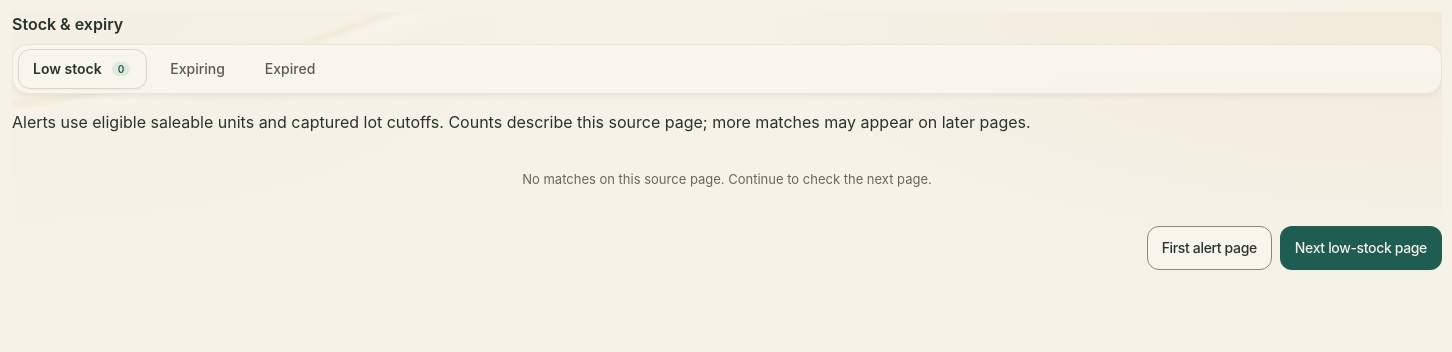
Test: paginates low-stock source pages and never labels a filtered empty page as the whole store
Expected: the text "No matches on this source page. Continue to check the next page." is shown, [522, 171, 932, 187]
Step 1. Click the button "Next low-stock page" → (1361,248), box [1280, 226, 1442, 270]
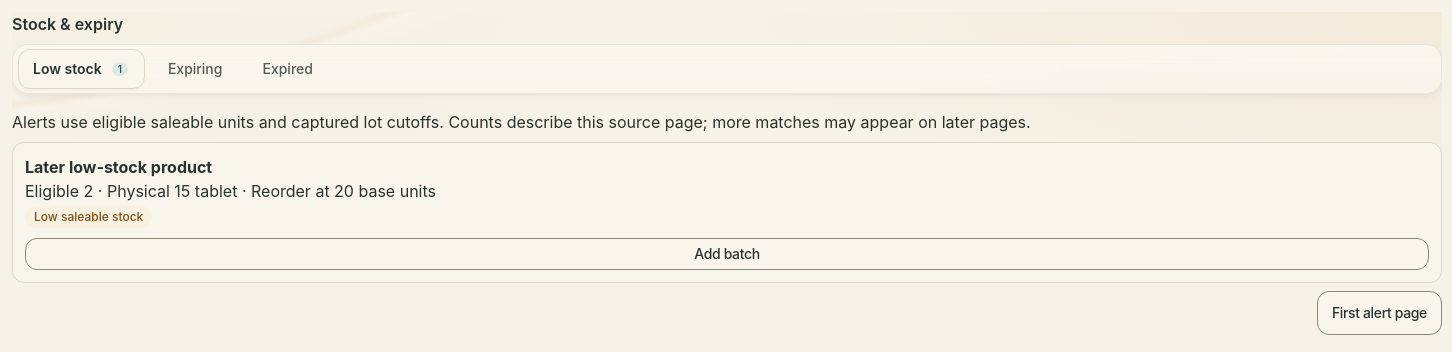
Result: the text "Later low-stock product" is shown at [25, 157, 212, 177]
